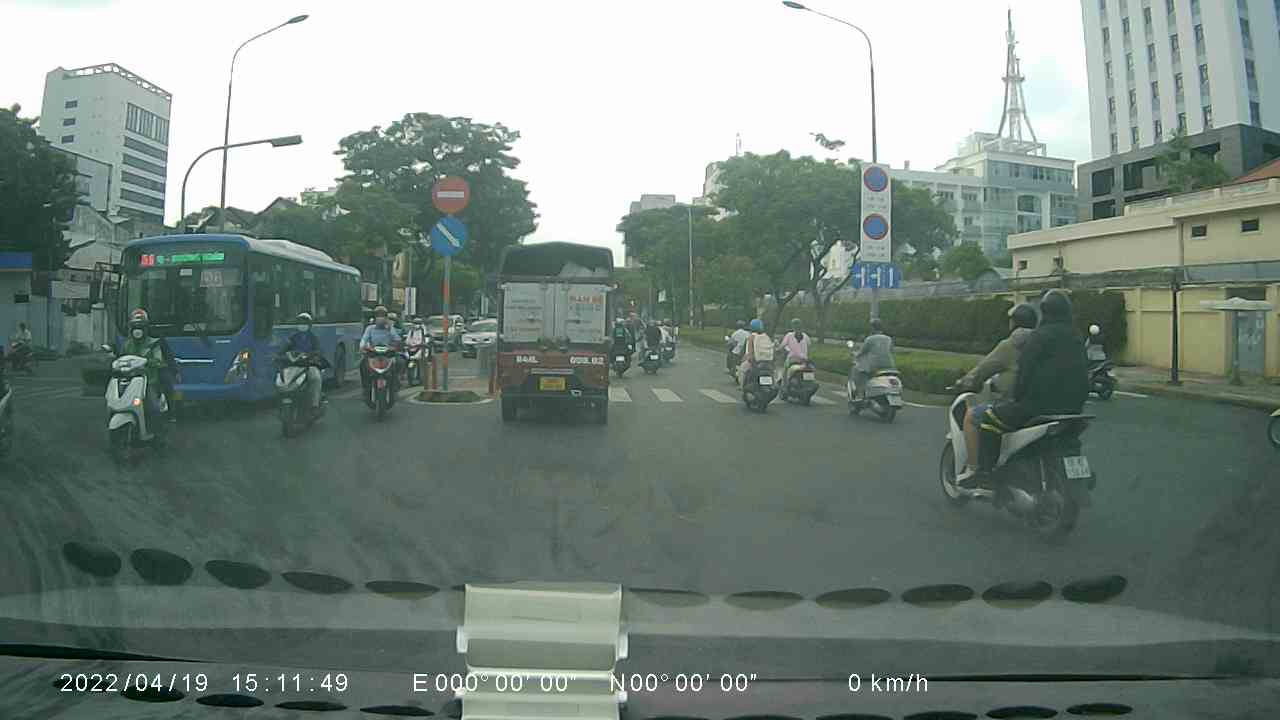Cam di nguoc chieu: (430, 173, 470, 213)
Cam do xe: (861, 211, 892, 242)
Huong di phai re phai: (428, 216, 468, 255)
